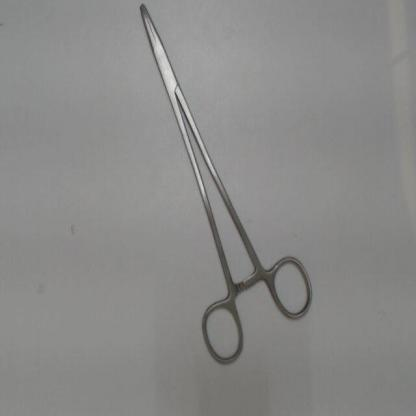8 Mayo Needle Holder: (129, 0, 320, 374)
